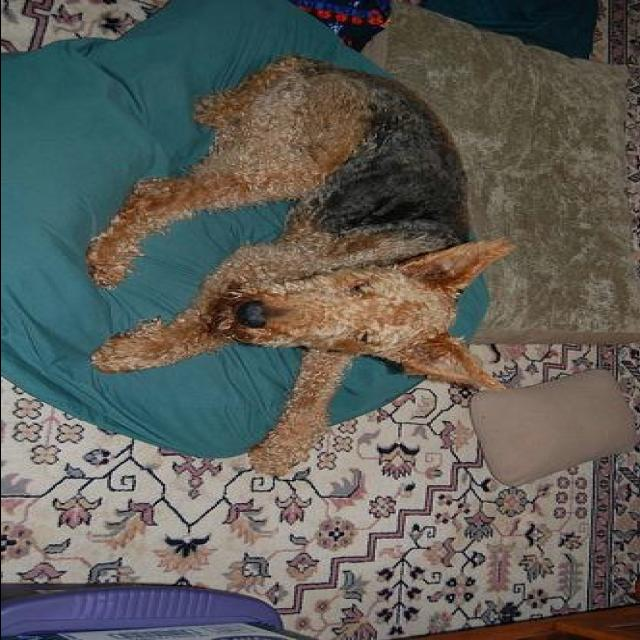airedale: (82, 57, 522, 474)
